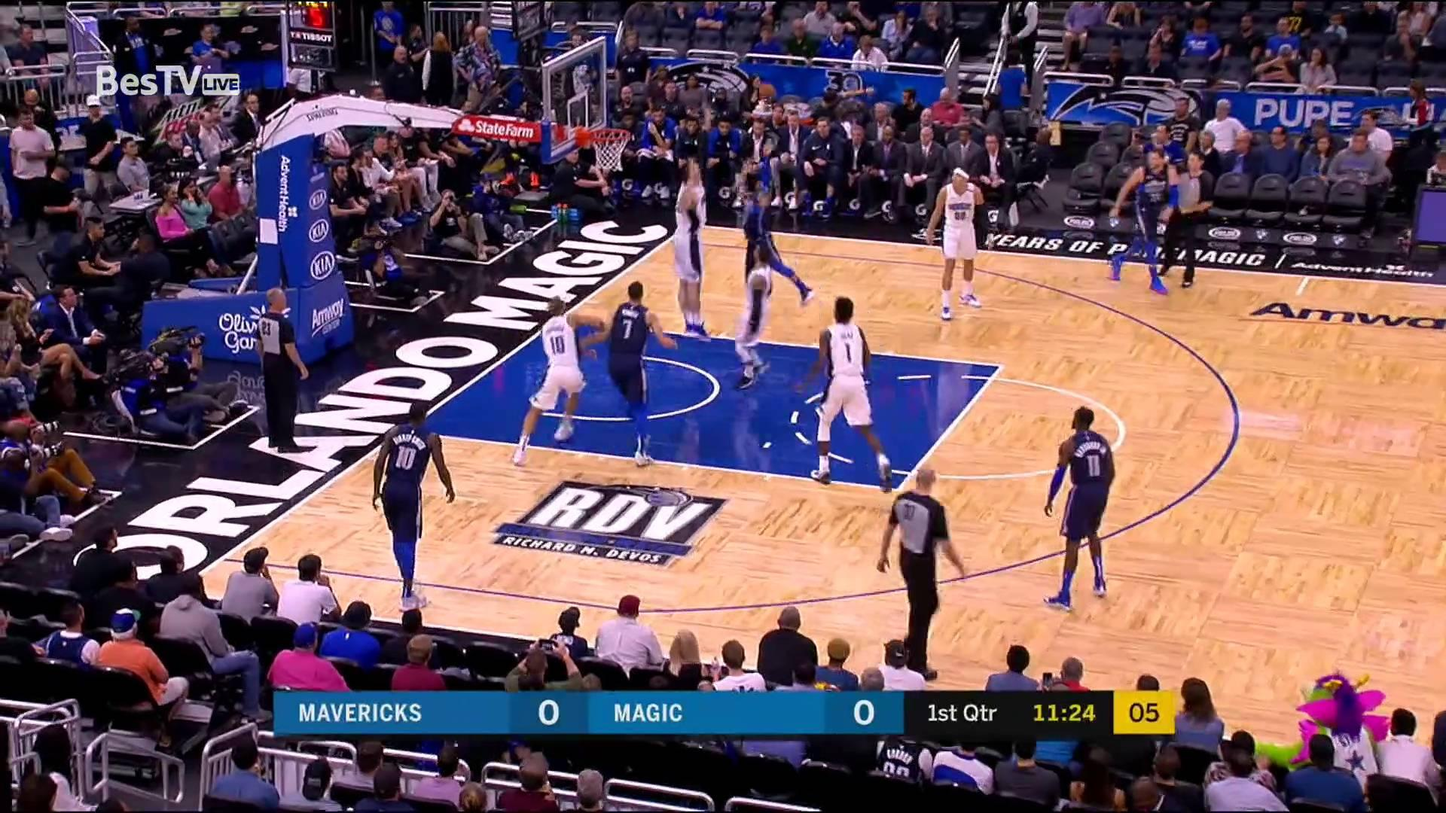basketball: (755, 75, 781, 103)
